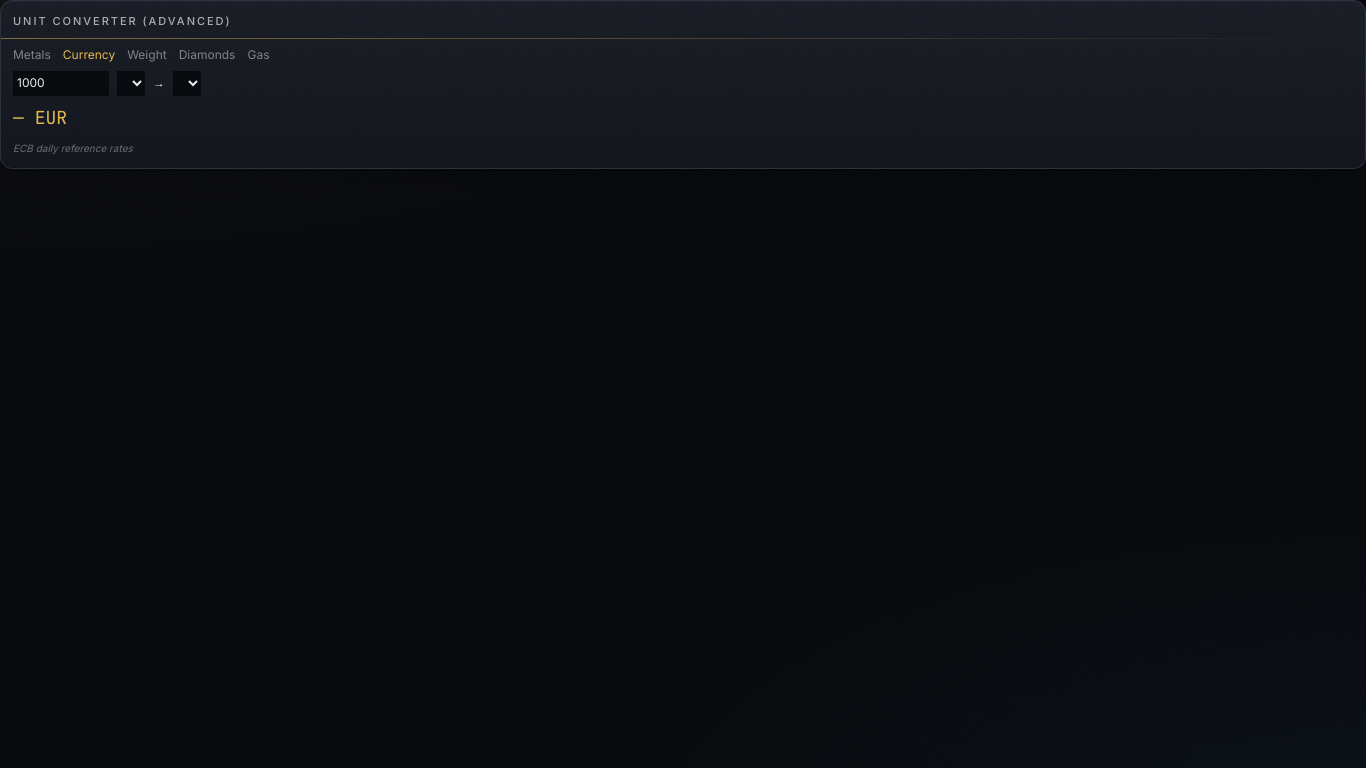
it: UnitConverterPanel › converts metal weight to USD market value using the live quote
The width and height of the screenshot is (1366, 768).
Click the button "Metals".
click(32, 54)  # box [13,46,51,62]
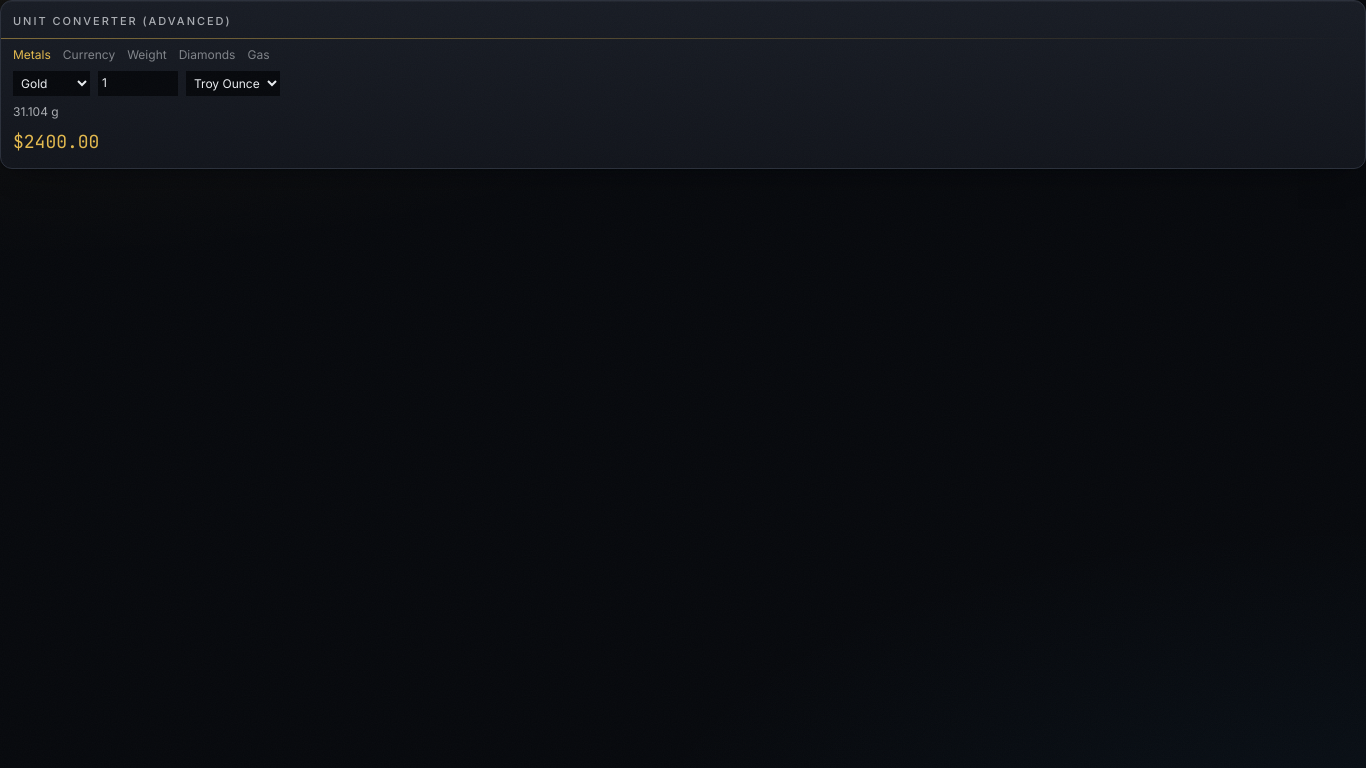
Result: the text with test id "metal-value" shows "2400" at [13,130,99,152]
